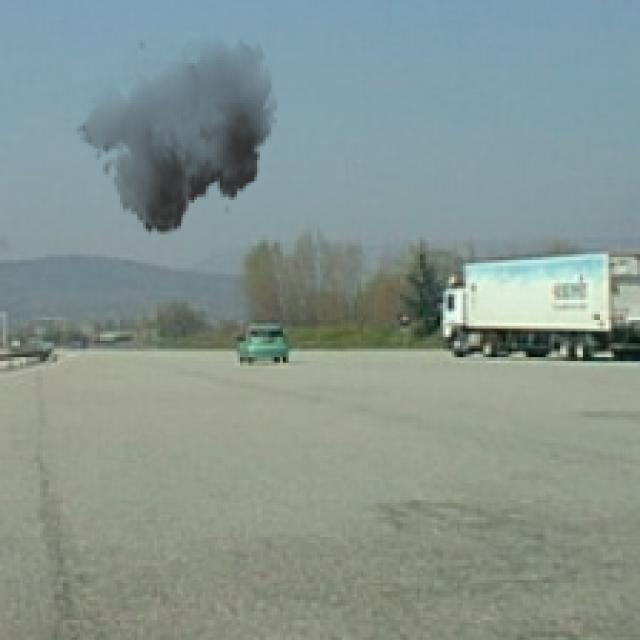smoke: (74, 28, 277, 243)
